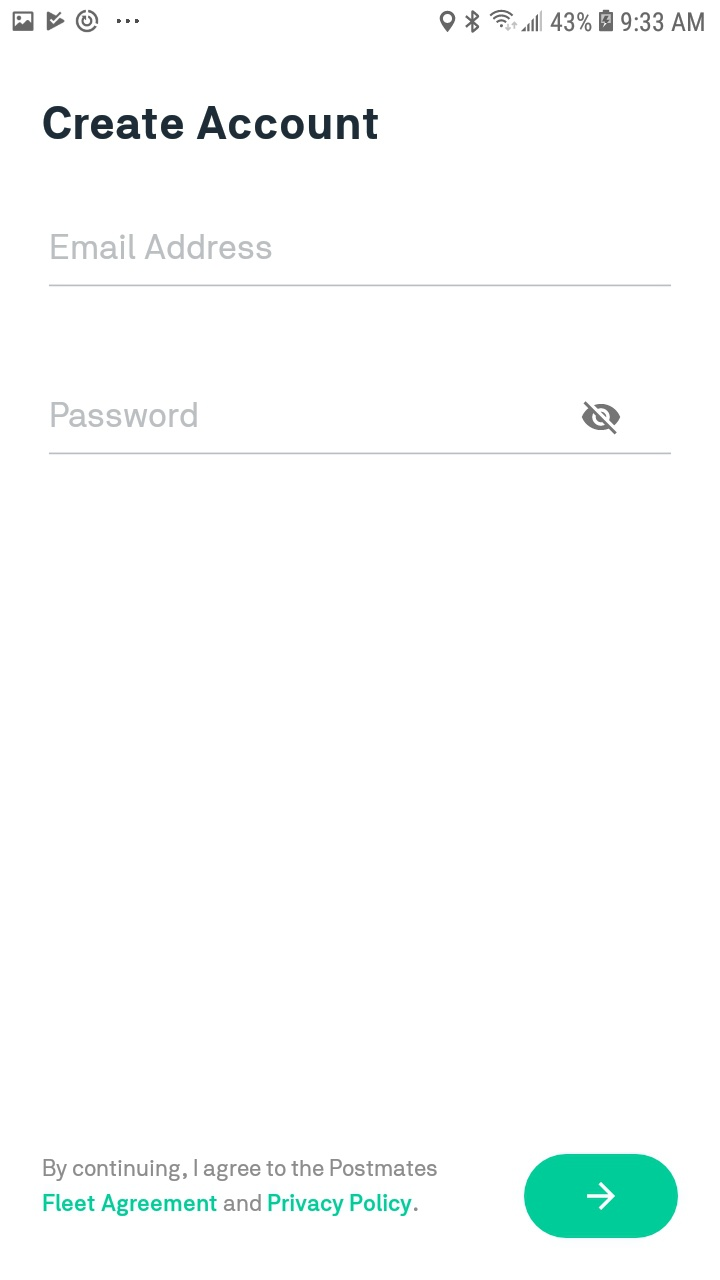EditText: (49, 233, 672, 288), (49, 402, 672, 456)
Icon: (524, 1153, 679, 1238), (581, 402, 621, 436)
Text: (43, 1158, 438, 1217), (43, 106, 379, 141), (51, 233, 272, 260), (51, 402, 198, 428)
UpperTaskBar: (1, 1, 720, 35)
